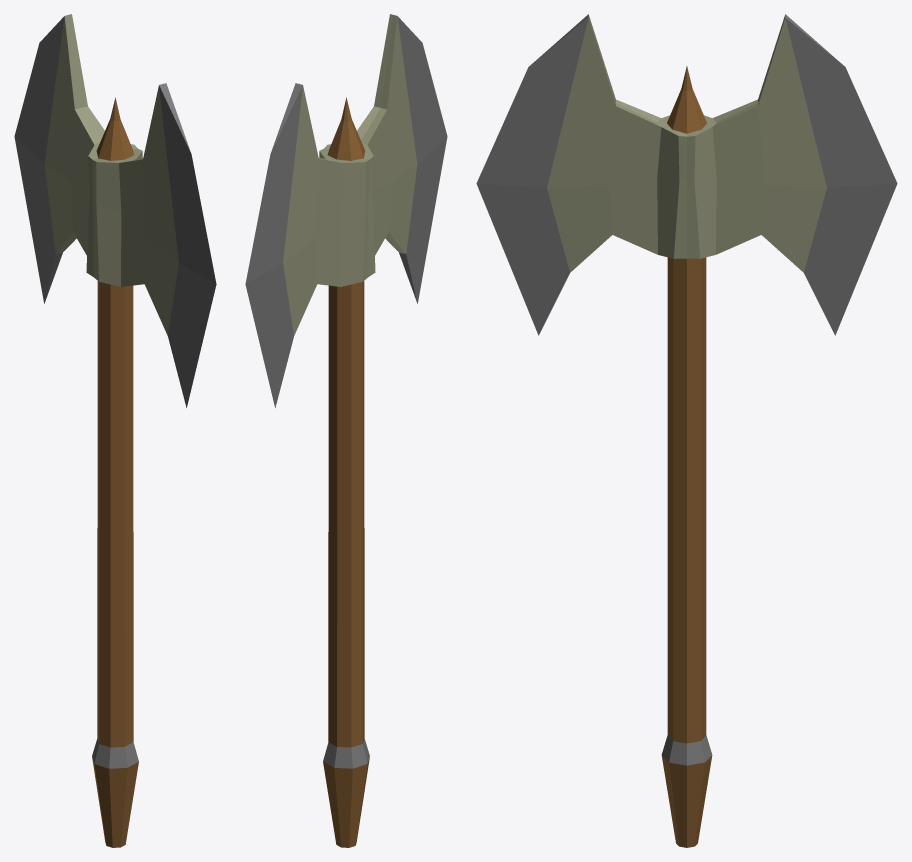
The model's file is Axe63.glb.
3 views of the same model, side by side, from view 1: azimuth 30°, elevation 25°; view 2: azimuth 150°, elevation 25°; view 3: azimuth 270°, elevation 25° (orthographic). The views are drawn at different scales.
Parts seen in each view (by area): view 1: weapon_generator; view 2: weapon_generator; view 3: weapon_generator.
Part boxes in pixels (left/top/right/bottom): weapon_generator: left=14, top=14, right=216, bottom=847; weapon_generator: left=245, top=14, right=447, bottom=847; weapon_generator: left=476, top=14, right=897, bottom=847.
Bounding box in the file's own units: 0.0747 × 1.23 × 0.5651.
